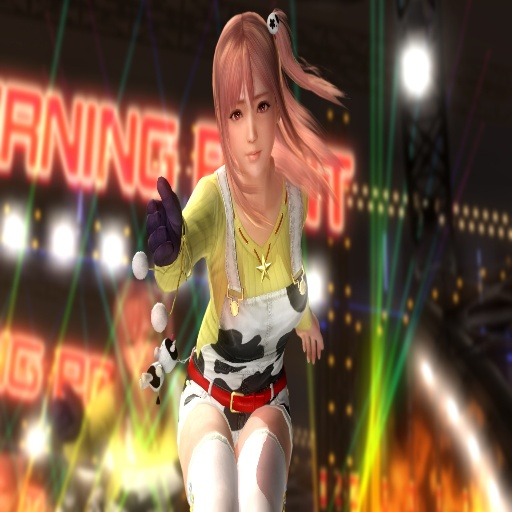hand: (140, 175, 185, 266), (295, 314, 325, 366)
